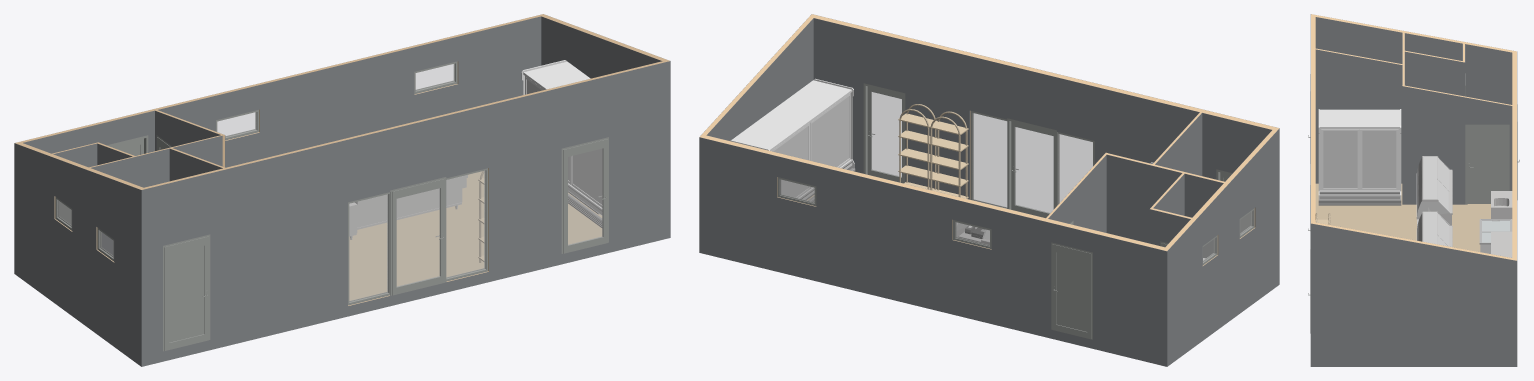
Rendered from Valkininkai_Mėsos krautuvėlė_R05.fbx.
3 views of the same model, side by side, from view 1: azimuth 30°, elevation 25°; view 2: azimuth 150°, elevation 25°; view 3: azimuth 270°, elevation 25° (orthographic). The views are drawn at different scales.
Parts seen in each view (by area): view 1: IfcWall/Part:2405523, IfcWall/Part:2405279, IfcWall/Part:2405271, IfcSlab/Part:2405282, IfcWindow/Aluprof_MB-86-SI_E_Alu_Window-1sash-FIX_ENG_R-000. (×3), IfcDoor/Lauko durys:1200x2250:2318509, IfcDoor/Lauko durys:1000x2250 nepermatomos (WC):2319108, IfcDoor/Lauko durys:1000x2250:2319070, IfcWindow/Aluprof_MB-86-SI_E_Alu_Window-1sash-FIX_ENG_R-0004, IfcWall/Part:2405276, IfcBuildingElementProxy/Freezer_-_Upright_Two_Door:62" Lengt, IfcBuildingElementProxy/Food_Service_Equipment-Display_Case- (+9 smaller); view 2: IfcWall/Part:2405280, IfcWall/Part:2405522, IfcWall/Part:2405271, IfcBuildingElementProxy/Freezer_-_Upright_Two_Door:62" Lengt, IfcDoor/Lauko durys:1200x2250:2318509, IfcWall/Part:2405276, IfcWall/Part:2405263, IfcDoor/Lauko durys:1000x2100 (techninių patalpų):2321252, IfcDoor/Lauko durys:1000x2250:2319070, IfcWindow/Aluprof_MB-86-SI_E_Alu_Window-1sash-FIX_ENG_R-000. (×3), IfcWindow/Aluprof_MB-86-SI_E_Alu_Window-1sash-FIX_ENG_R-0004, IfcWall/Part:2410921 (+10 smaller); view 3: IfcWall/Part:2405277, IfcBuildingElementProxy/Freezer_-_Upright_Two_Door1:1575mm L, IfcWall/Part:2405268, IfcWall/Part:2405270, IfcWall/Part:2405260, IfcSlab/Part:2405282, IfcDoor/Vidaus durys:1000x2100:2319457, IfcWall/Part:2405257, IfcBuildingElementProxy/Food_Service_Equipment-Display_Case, IfcWall/Part:2405281, IfcWall/Part:2405524, IfcBuildingElementProxy/Food_Service_Equipment-Display_Case- (+8 smaller).
Part boxes in pixels (x1,y1,x2,y2): IfcWall/Part:2405523: [141, 61, 670, 366]; IfcWall/Part:2405279: [23, 16, 541, 167]; IfcWall/Part:2405271: [14, 143, 141, 366]; IfcSlab/Part:2405282: [349, 171, 602, 300]; IfcWindow/Aluprof_MB-86-SI_E_Alu_Window-1sash-FIX_ENG_R-000. (×3): [216, 61, 457, 305]; IfcDoor/Lauko durys:1200x2250:2318509: [388, 177, 446, 295]; IfcDoor/Lauko durys:1000x2250 nepermatomos (WC):2319108: [163, 234, 210, 351]; IfcDoor/Lauko durys:1000x2250:2319070: [561, 137, 608, 253]; IfcWindow/Aluprof_MB-86-SI_E_Alu_Window-1sash-FIX_ENG_R-0004: [446, 168, 488, 281]; IfcWall/Part:2405276: [541, 16, 662, 78]; IfcBuildingElementProxy/Freezer_-_Upright_Two_Door:62" Lengt: [521, 60, 602, 227]; IfcBuildingElementProxy/Food_Service_Equipment-Display_Case-: [355, 175, 467, 229]; IfcWall/Part:2405280: [699, 137, 1167, 366]; IfcWall/Part:2405522: [813, 18, 1271, 199]; IfcWall/Part:2405271: [1167, 128, 1279, 366]; IfcBuildingElementProxy/Freezer_-_Upright_Two_Door:62" Lengt: [730, 78, 855, 201]; IfcDoor/Lauko durys:1200x2250:2318509: [1007, 118, 1058, 217]; IfcWall/Part:2405276: [707, 18, 813, 140]; IfcWall/Part:2405263: [1106, 154, 1182, 243]; IfcDoor/Lauko durys:1000x2100 (techninių patalpų):2321252: [1051, 242, 1092, 339]; IfcDoor/Lauko durys:1000x2250:2319070: [863, 83, 905, 183]; IfcWindow/Aluprof_MB-86-SI_E_Alu_Window-1sash-FIX_ENG_R-000. (×3): [777, 132, 1094, 248]; IfcWindow/Aluprof_MB-86-SI_E_Alu_Window-1sash-FIX_ENG_R-0004: [970, 110, 1011, 209]; IfcWall/Part:2410921: [1048, 155, 1106, 232]; IfcWall/Part:2405277: [1310, 223, 1516, 366]; IfcBuildingElementProxy/Freezer_-_Upright_Two_Door1:1575mm L: [1318, 109, 1401, 205]; IfcWall/Part:2405268: [1402, 86, 1512, 204]; IfcWall/Part:2405270: [1315, 17, 1512, 104]; IfcWall/Part:2405260: [1315, 49, 1402, 183]; IfcSlab/Part:2405282: [1315, 183, 1490, 251]; IfcDoor/Vidaus durys:1000x2100:2319457: [1465, 124, 1509, 204]; IfcWall/Part:2405257: [1405, 51, 1465, 96]; IfcBuildingElementProxy/Food_Service_Equipment-Display_Case: [1416, 156, 1452, 225]; IfcWall/Part:2405281: [1512, 50, 1516, 260]; IfcWall/Part:2405524: [1311, 14, 1315, 222]; IfcBuildingElementProxy/Food_Service_Equipment-Display_Case-: [1416, 211, 1452, 246].
Size of the model in its own units: 1200 by 383 by 512.
